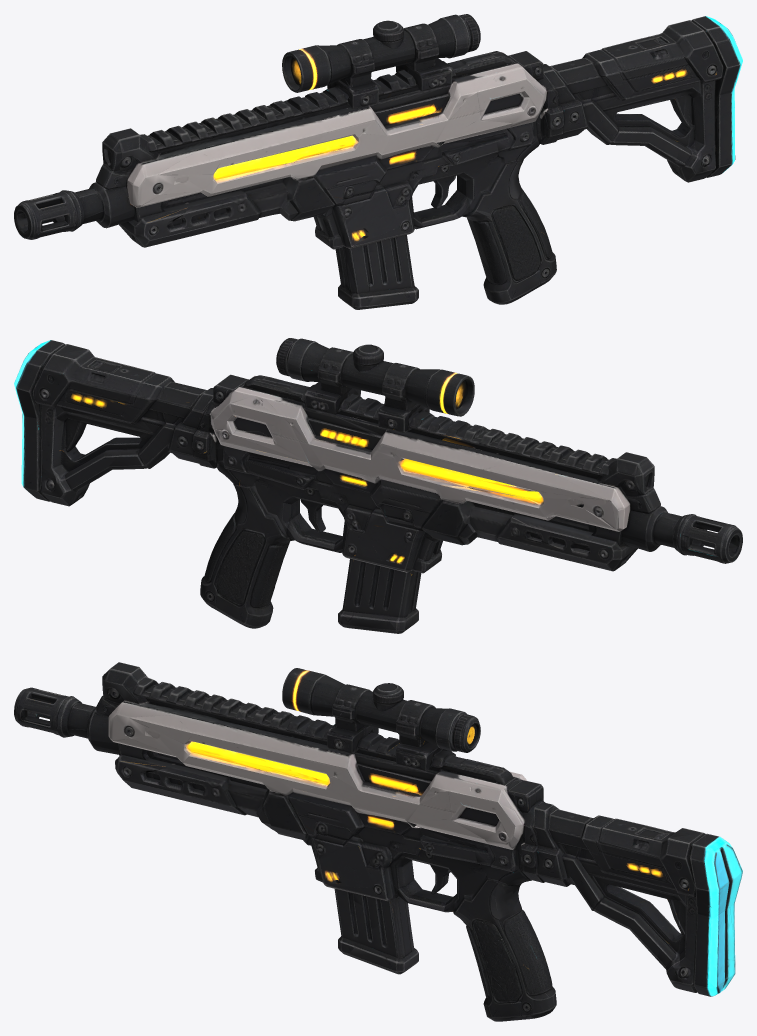
3 views of the same model, one above another, from view 1: azimuth 30°, elevation 25°; view 2: azimuth 150°, elevation 25°; view 3: azimuth 330°, elevation 25° (orthographic).
Parts seen in each view (by area): view 1: AR_LOD0; view 2: AR_LOD0; view 3: AR_LOD0.
Part boxes in pixels (box(x1,y1,x2,y2)): AR_LOD0: box(14, 14, 742, 309); AR_LOD0: box(14, 338, 742, 633); AR_LOD0: box(14, 662, 742, 1021).
Size of the model in its own units: 95 by 38.96 by 7.32.
